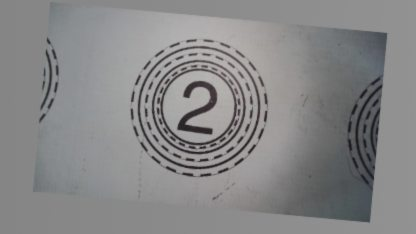2r: (123, 31, 274, 183)
